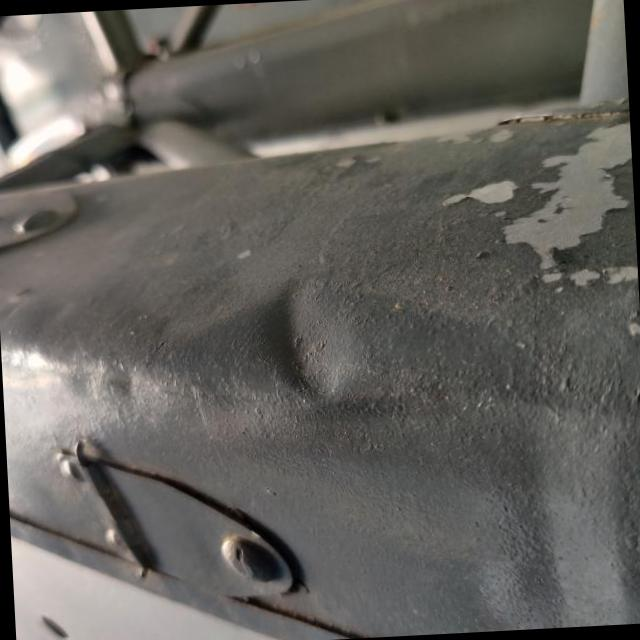Dent: (258, 264, 368, 411)
Paint-off: (506, 135, 632, 265), (444, 180, 538, 213)
